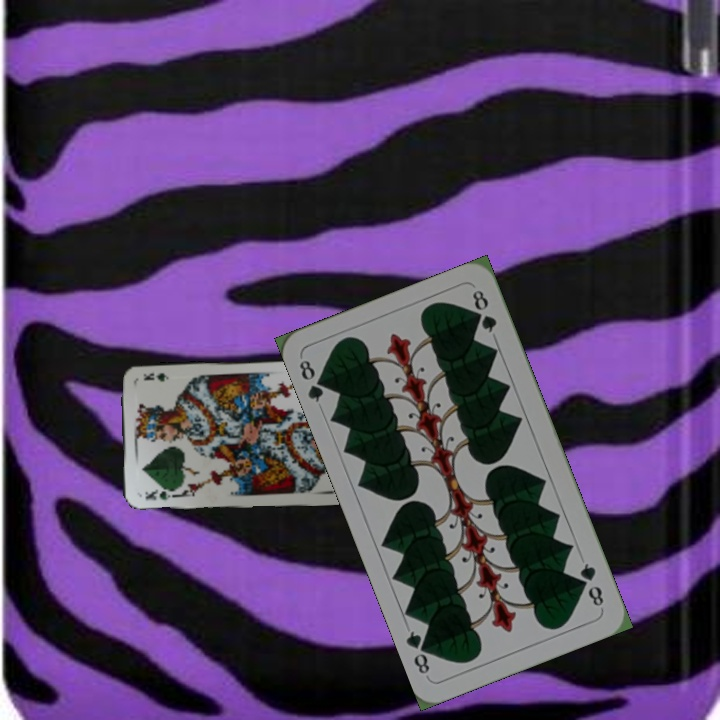G8: (295, 355, 331, 405), (576, 559, 606, 612)
GK: (141, 487, 178, 503)
